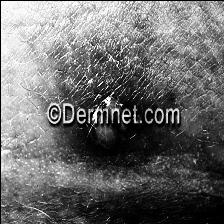Toxin: (86, 94, 128, 149)
